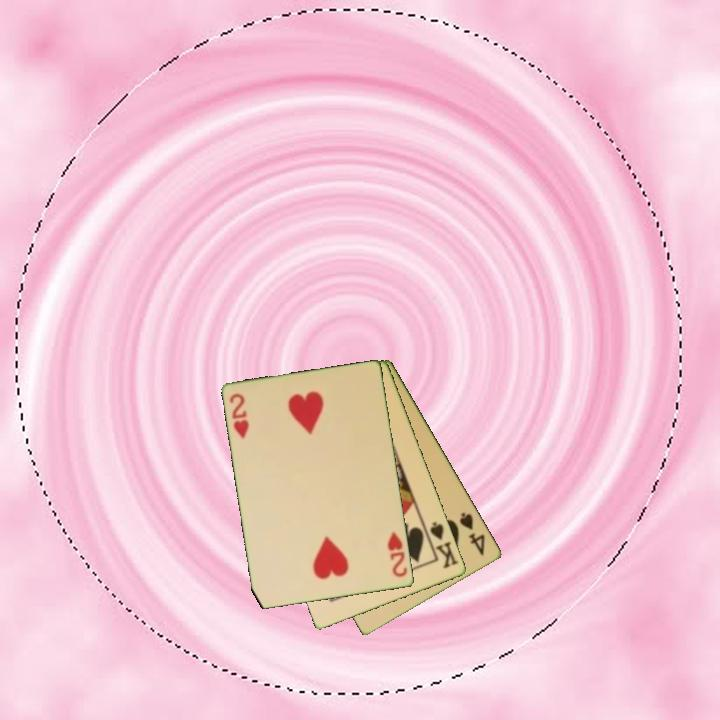2h: (384, 528, 410, 580), (226, 390, 252, 442)
4s: (456, 508, 488, 559)
Ks: (422, 518, 462, 572)
